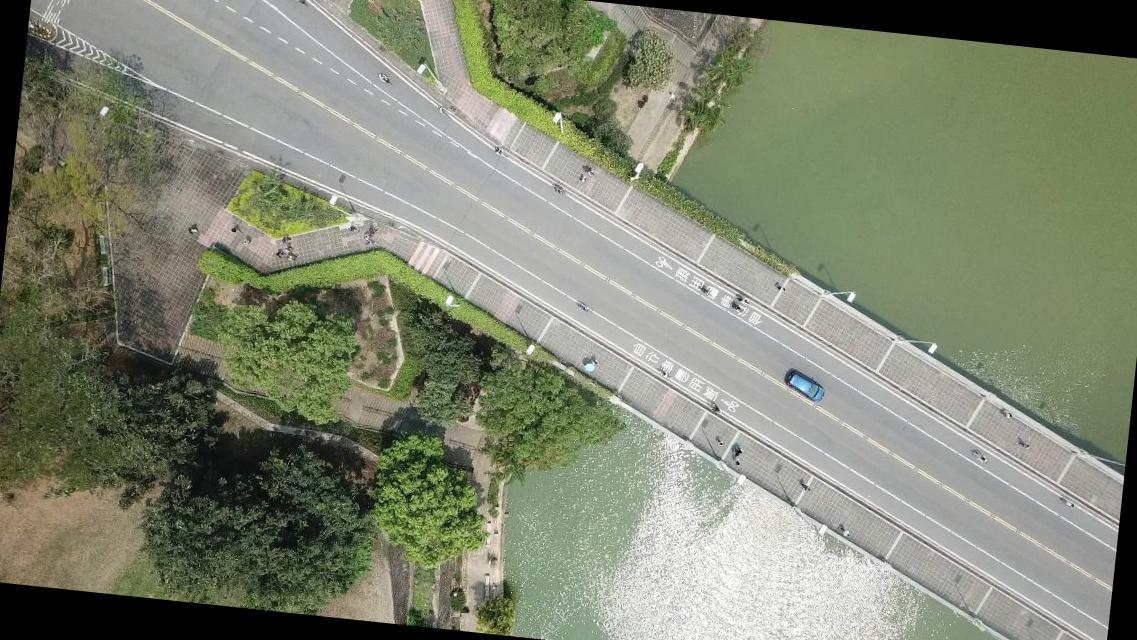vehicle: (784, 368, 826, 402)
